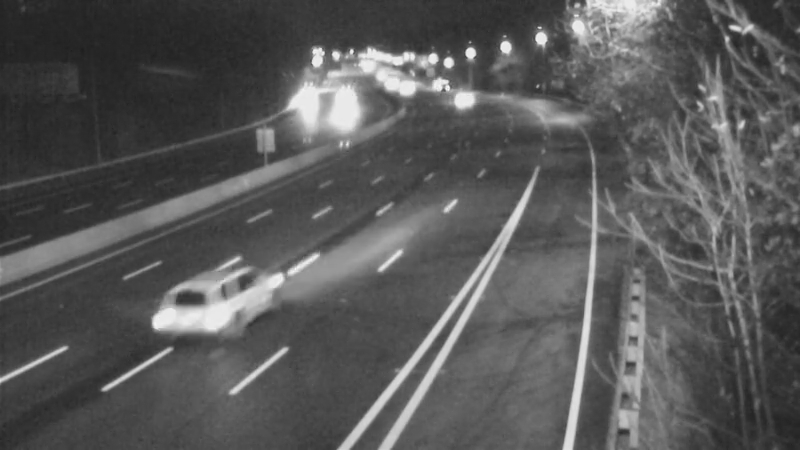vehicle: (139, 246, 249, 356), (414, 61, 464, 111), (384, 63, 434, 113), (439, 74, 489, 124), (322, 78, 372, 128)
